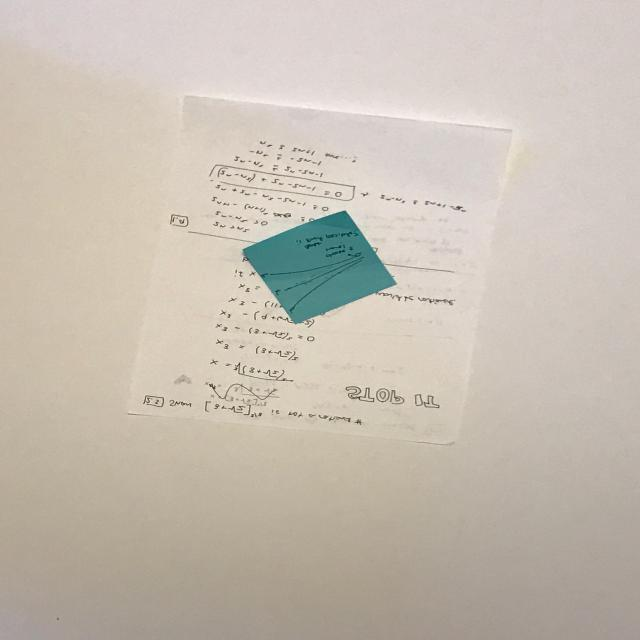paper: (30, 68, 552, 506), (216, 193, 406, 345)
